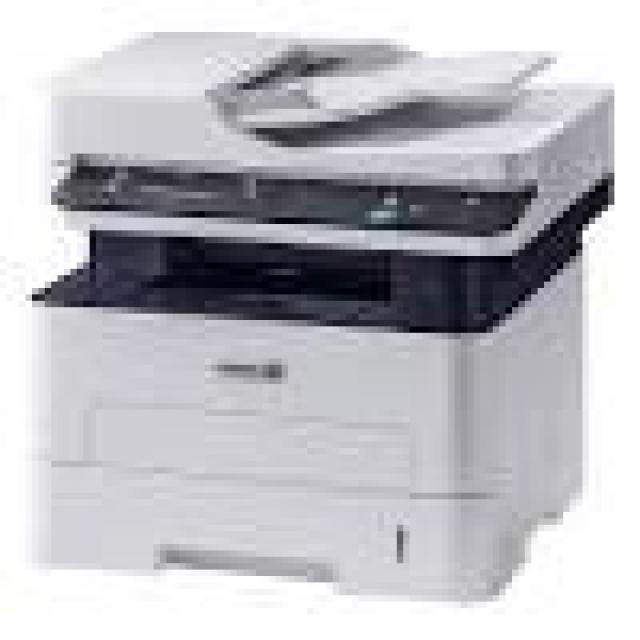printer: (4, 4, 622, 605)
